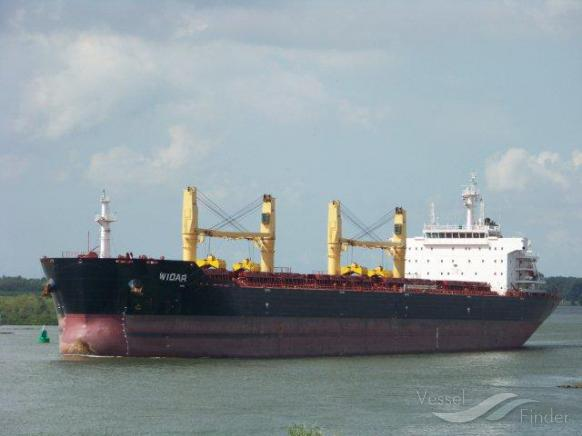OCR: (154, 266, 192, 286)
